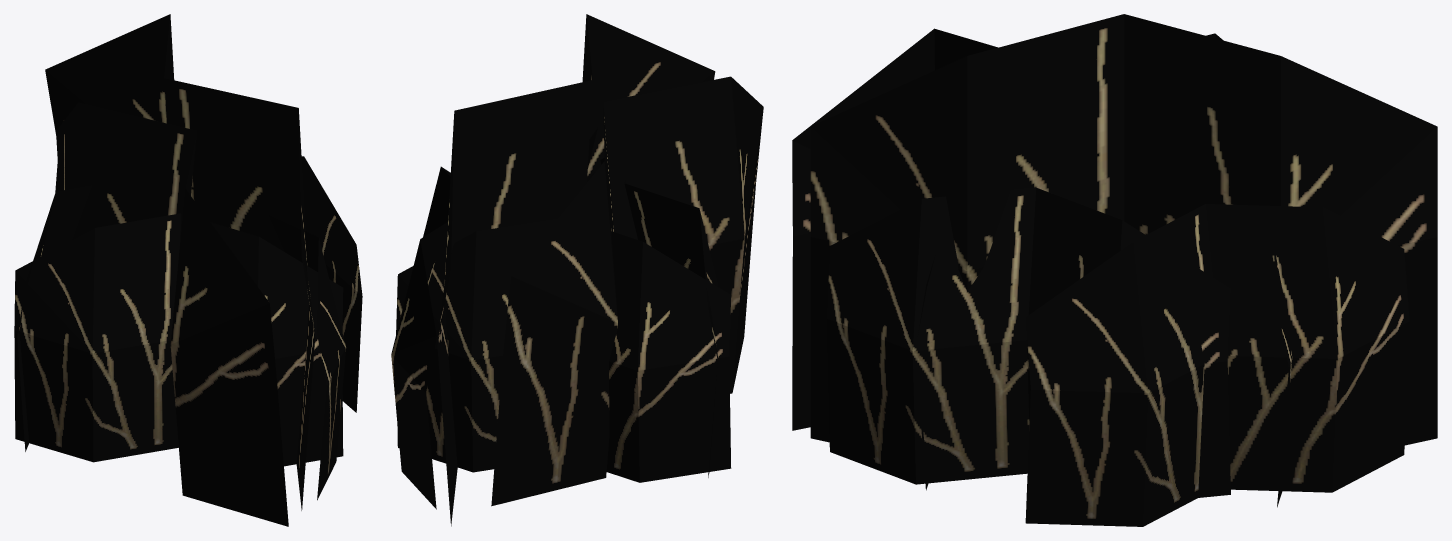
Rendered from bg_anh_foliage_de_b03_sm_old.FBX.
The picture shows the model from 3 angles, left to right: view 1: azimuth 30°, elevation 25°; view 2: azimuth 150°, elevation 25°; view 3: azimuth 270°, elevation 25°; orthographic projection. The views are drawn at different scales.
Visible parts, largest first — view 1: bg_anh_foliage_de_b03_sm_old; view 2: bg_anh_foliage_de_b03_sm_old; view 3: bg_anh_foliage_de_b03_sm_old.
Boxes of the visible parts, <box> form: bg_anh_foliage_de_b03_sm_old: <box>14,14,362,526</box>; bg_anh_foliage_de_b03_sm_old: <box>391,14,763,526</box>; bg_anh_foliage_de_b03_sm_old: <box>792,14,1437,526</box>.
Size of the model in its own units: 81.4 by 88.18 by 122.
